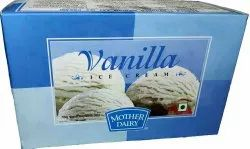Mother_Dairy: (101, 103, 153, 135)
